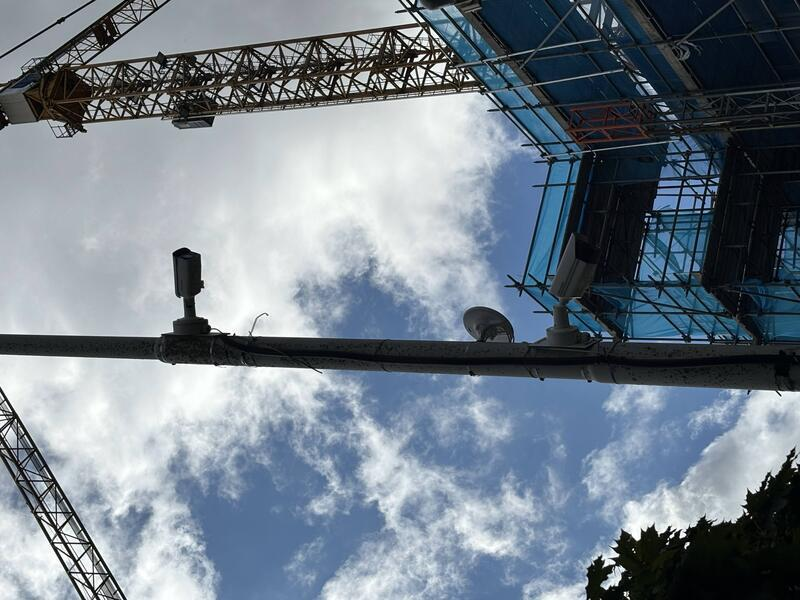bullet: (296, 163, 356, 206)
